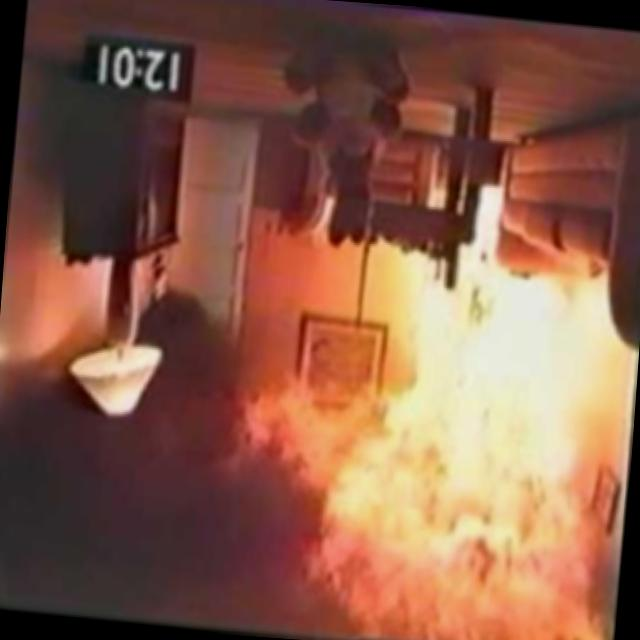fire: (336, 273, 639, 640)
smoke: (0, 391, 314, 627)
